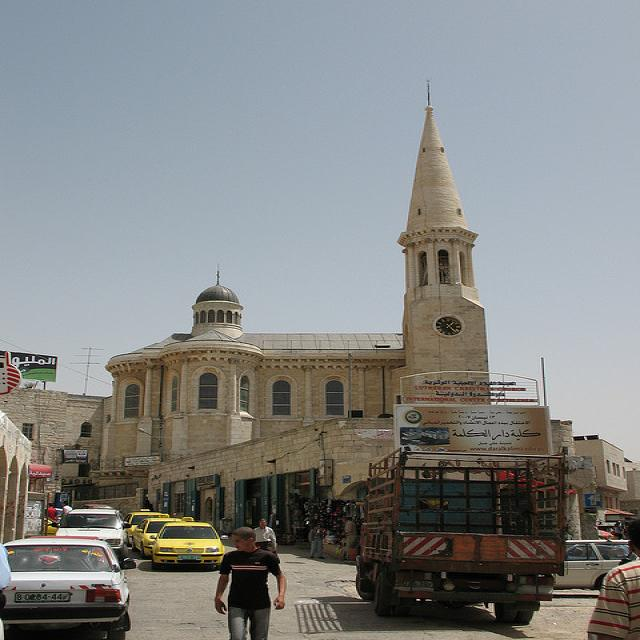Vehicle: (356, 445, 570, 624), (4, 535, 134, 633), (149, 518, 226, 571), (552, 544, 630, 592), (56, 508, 126, 550), (133, 518, 186, 558), (123, 508, 171, 546)
